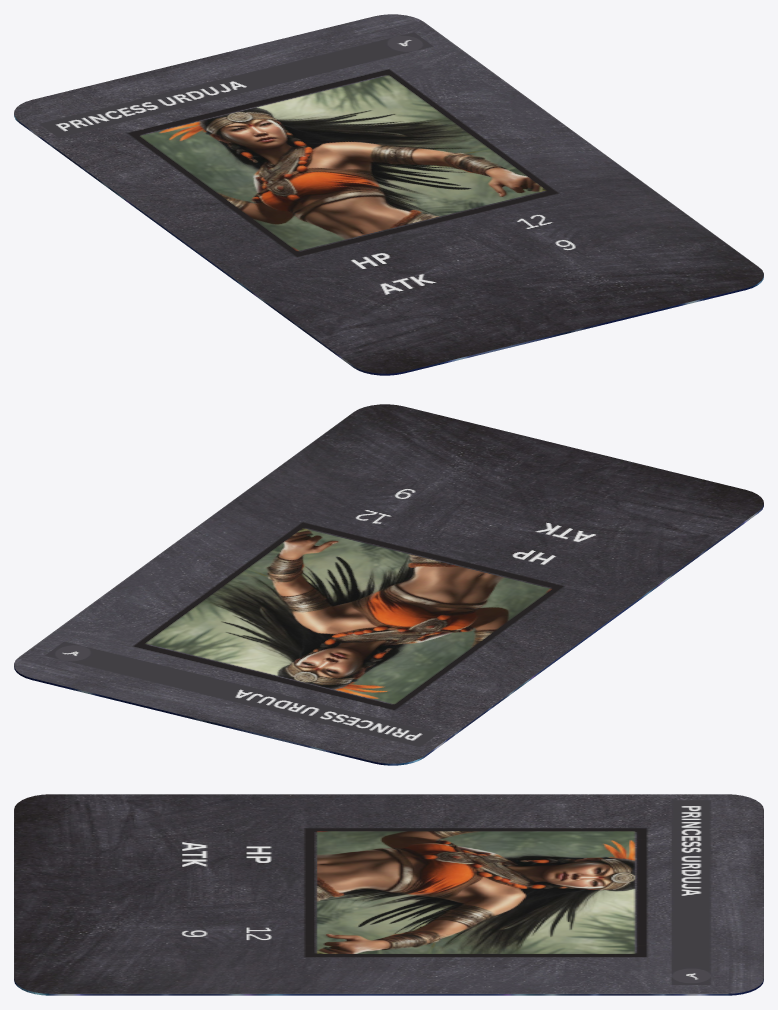
Rendered from Princess Urdaja(Disappear).glb.
3 views of the same model, one above another, from view 1: azimuth 30°, elevation 25°; view 2: azimuth 150°, elevation 25°; view 3: azimuth 270°, elevation 25° (orthographic).
Visible parts, largest first — view 1: Card; view 2: Card; view 3: Card.
Boxes of the visible parts, bbox=[...] form: Card: bbox=[14, 14, 763, 375]; Card: bbox=[14, 404, 763, 765]; Card: bbox=[14, 794, 763, 995].
Size of the model in its own units: 0.056 by 0.00024 by 0.0889.
Materials: 2 (2 with a texture image).
